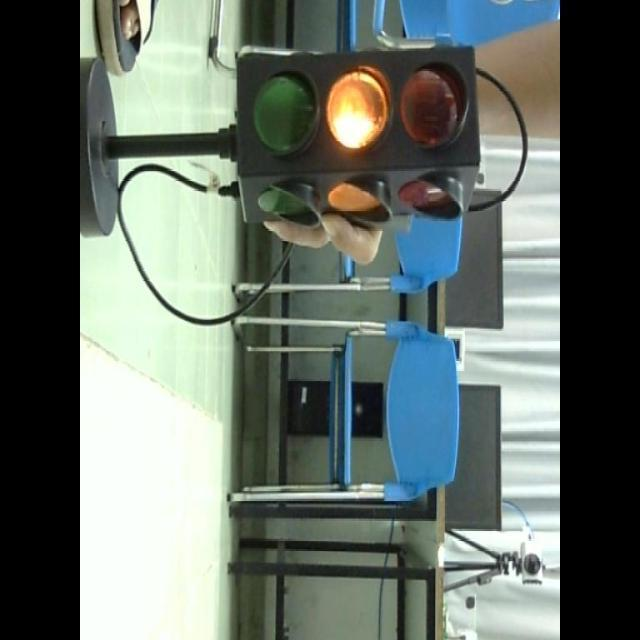yellow_light: (235, 46, 478, 177)
